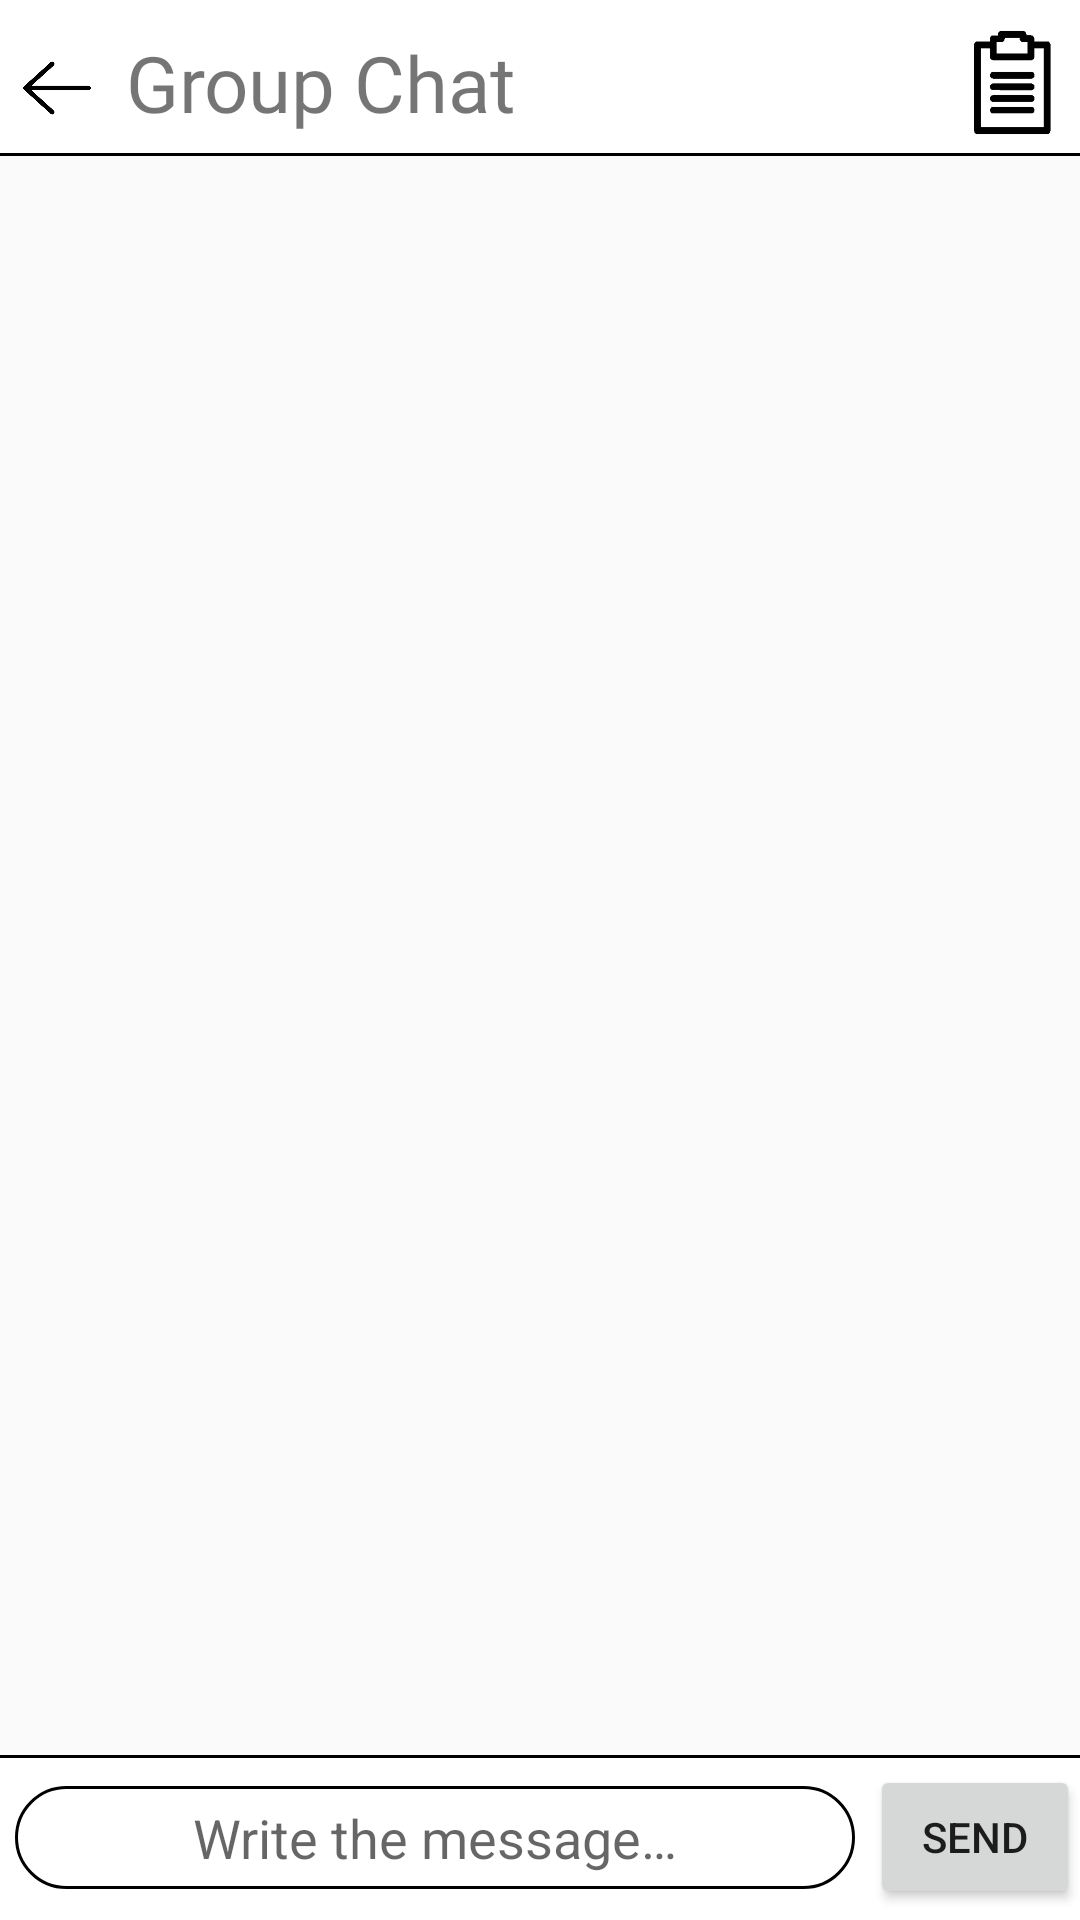

Where icons sit on this 1080x1920 app screen, as Rect(x1, y1, x2, y2):
back arrow: Rect(23, 61, 91, 115)
